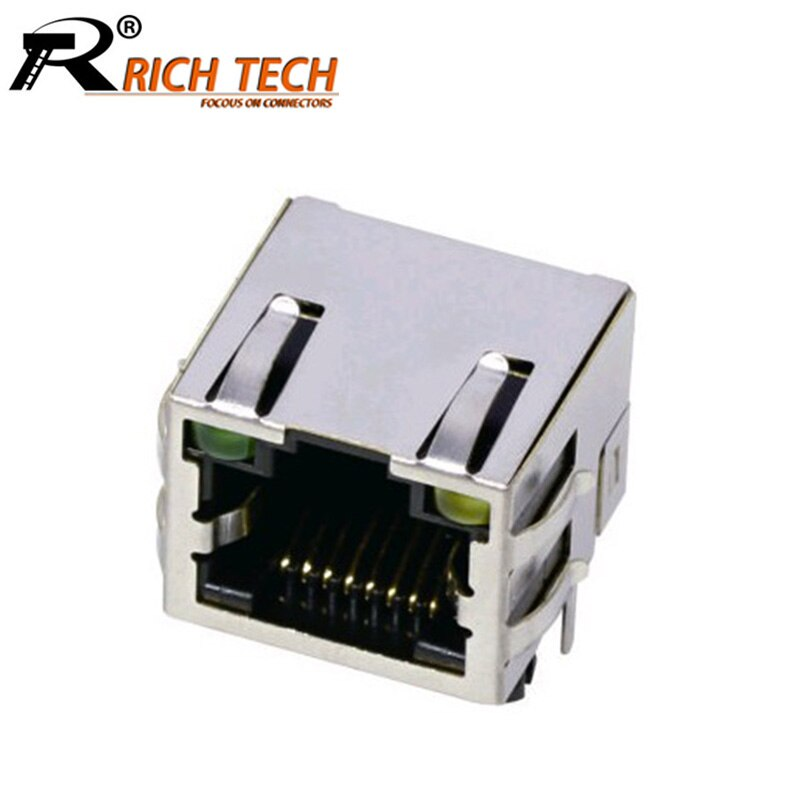lan: (167, 400, 500, 694)
